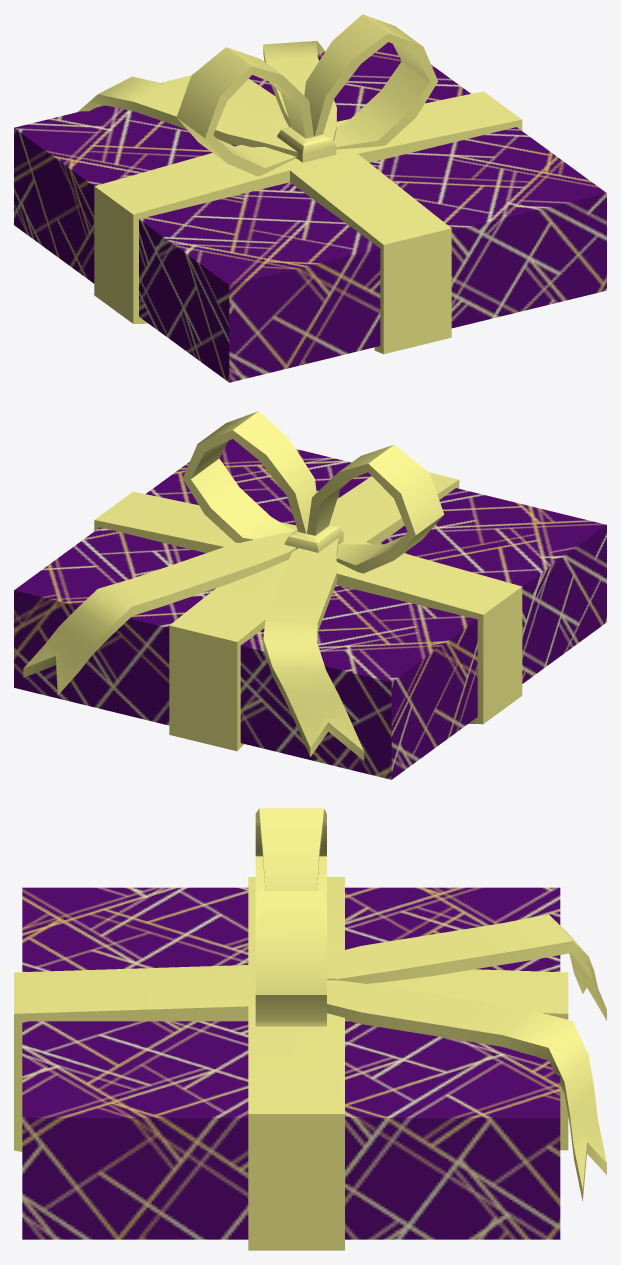
Rendered from presentUpper.fbx.
The picture shows the model from 3 angles, top to bottom: view 1: azimuth 30°, elevation 25°; view 2: azimuth 150°, elevation 25°; view 3: azimuth 270°, elevation 25°; orthographic projection. The views are drawn at different scales.
Visible parts, largest first — view 1: boxUpper; view 2: boxUpper; view 3: boxUpper.
Boxes of the visible parts, box(x1,y1,x2,y2) form: boxUpper: box(14, 14, 606, 382); boxUpper: box(14, 411, 606, 779); boxUpper: box(14, 808, 606, 1250).
Bounding box in the file's own units: 137 × 77.29 × 144.
